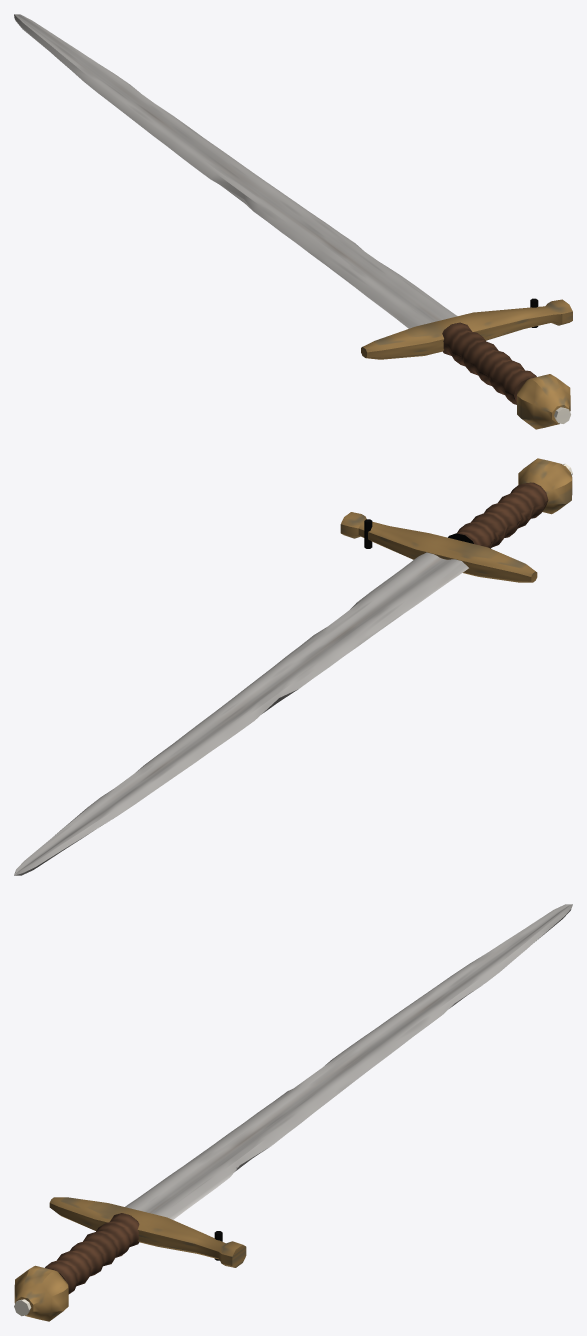
Rendered from SM_WornSword.glb.
3 renders of one model, top to bottom at view 1: azimuth 30°, elevation 25°; view 2: azimuth 150°, elevation 25°; view 3: azimuth 330°, elevation 25°, orthographic.
Parts seen in each view (by area): view 1: SM_WornSword_LOD0; view 2: SM_WornSword_LOD0; view 3: SM_WornSword_LOD0.
Boxes of the visible parts, left/top/right/bottom form: SM_WornSword_LOD0: left=14, top=14, right=572, bottom=429; SM_WornSword_LOD0: left=14, top=458, right=572, bottom=875; SM_WornSword_LOD0: left=14, top=904, right=572, bottom=1321.
Size of the model in its own units: 0.2 by 0.0469 by 0.9815.
1 material, 1 textured.
